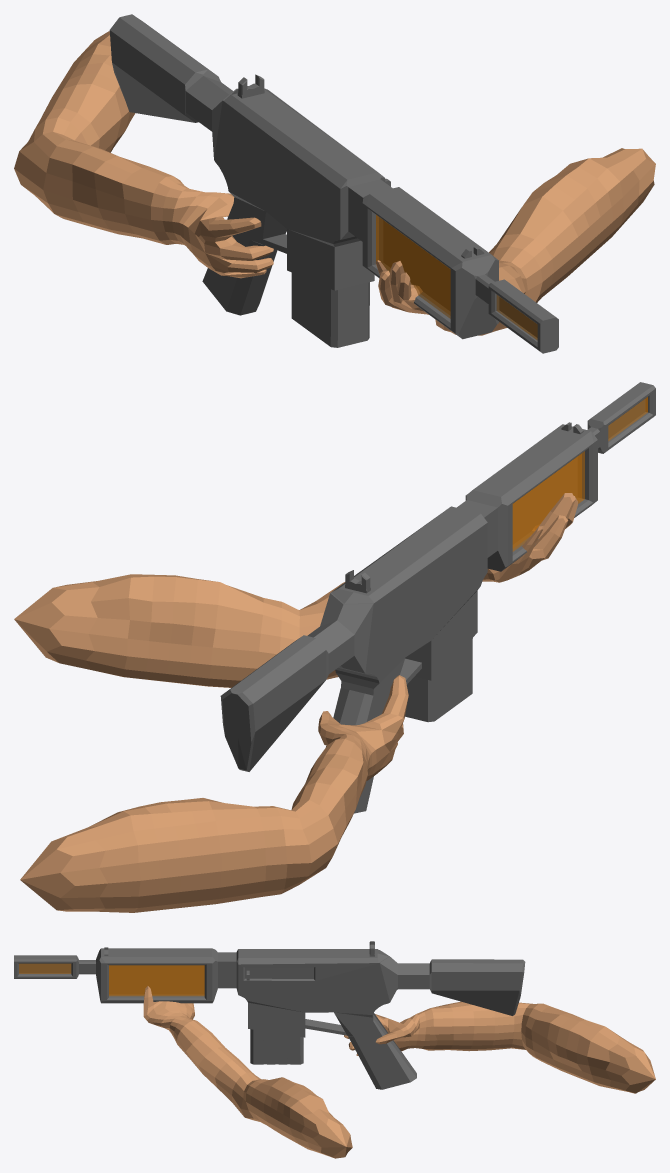
Rendered from PlasmaGunV9.fbx.
3 renders of one model, top to bottom at view 1: azimuth 30°, elevation 25°; view 2: azimuth 150°, elevation 25°; view 3: azimuth 270°, elevation 25°, orthographic. The views are drawn at different scales.
Visible parts, largest first — view 1: GUN BASE, RightArm, LeftArm, GUN BASE.003; view 2: GUN BASE, RightArm, LeftArm, GUN BASE.003; view 3: GUN BASE, RightArm, LeftArm, GUN BASE.003, GUN BASE.002.
Part boxes in pixels (left/top/right/bottom): GUN BASE: left=109, top=14, right=558, bottom=353; RightArm: left=14, top=31, right=273, bottom=278; LeftArm: left=375, top=148, right=655, bottom=335; GUN BASE.003: left=376, top=215, right=537, bottom=340; GUN BASE: left=220, top=382, right=655, bottom=813; RightArm: left=20, top=675, right=408, bottom=912; LeftArm: left=14, top=493, right=577, bottom=687; GUN BASE.003: left=512, top=397, right=647, bottom=551; GUN BASE: left=14, top=941, right=525, bottom=1089; RightArm: left=344, top=1001, right=655, bottom=1093; LeftArm: left=143, top=986, right=352, bottom=1158; GUN BASE.003: left=19, top=963, right=204, bottom=996; GUN BASE.002: left=245, top=967, right=313, bottom=980.
Bounding box in the file's own units: 214 × 104 × 421.
